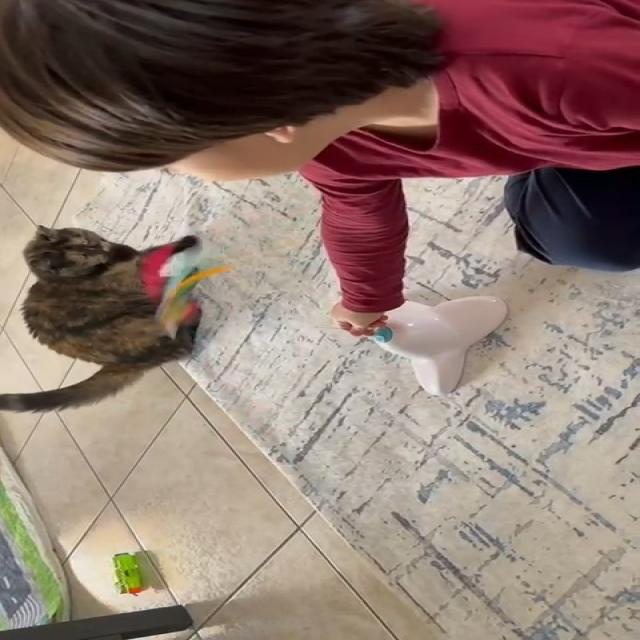authorized: (0, 224, 207, 414)
